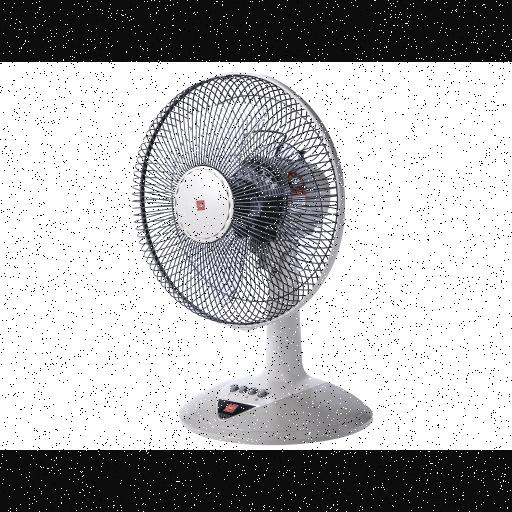Fan: (131, 71, 345, 330)
